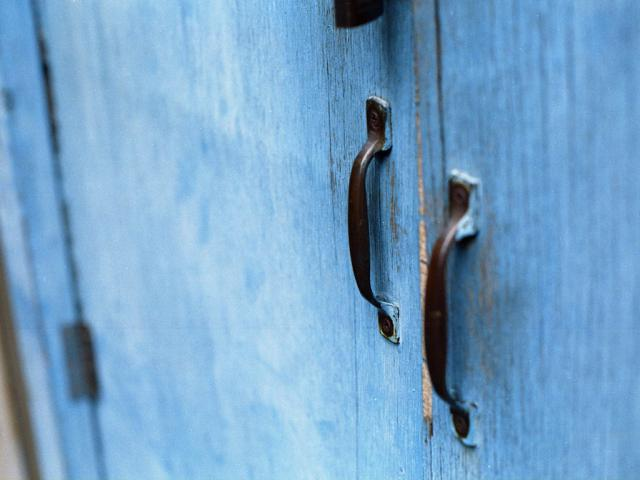Door-handle: (424, 171, 480, 447), (348, 94, 400, 347)
